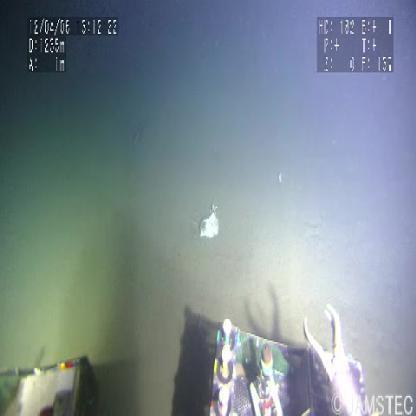Rác: (196, 205, 221, 242)
